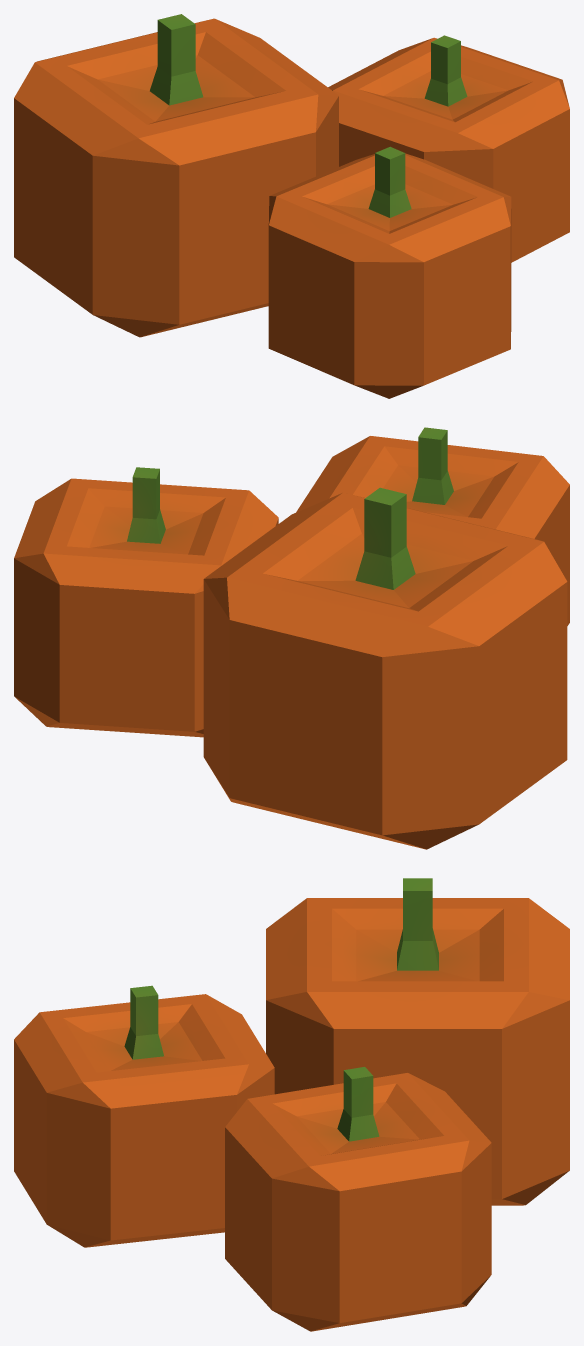
Rendered from Farm.glb.
3 views of the same model, one above another, from view 1: azimuth 30°, elevation 25°; view 2: azimuth 150°, elevation 25°; view 3: azimuth 270°, elevation 25° (orthographic). The views are drawn at different scales.
Visible parts, largest first — view 1: Cube.170; view 2: Cube.170; view 3: Cube.170.
Boxes of the visible parts, <box> form: Cube.170: <box>14,14,569,398</box>; Cube.170: <box>14,427,569,849</box>; Cube.170: <box>14,878,569,1331</box>.
Bounding box in the file's own units: 0.925 × 0.4832 × 0.8812.
Materials: 1 (1 with a texture image).
